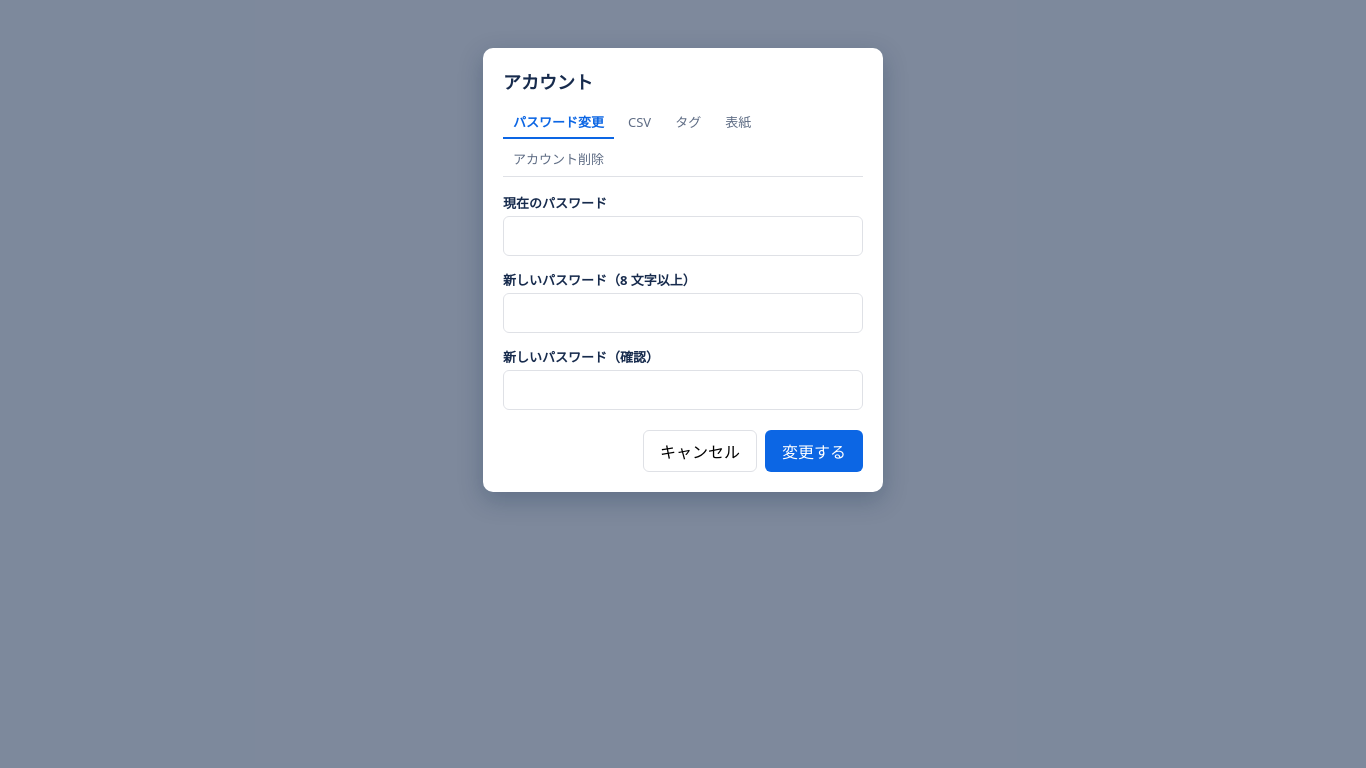
Test case: AccountModal（CSV） › 「CSV」で書き出しのリンク（/api/books/export）と読み込みを出し、取り込んだら imported を伝える
The image size is (1366, 768).
Click the tab "CSV" at [640, 122], box top-left (618, 106), bottom-right (661, 139)
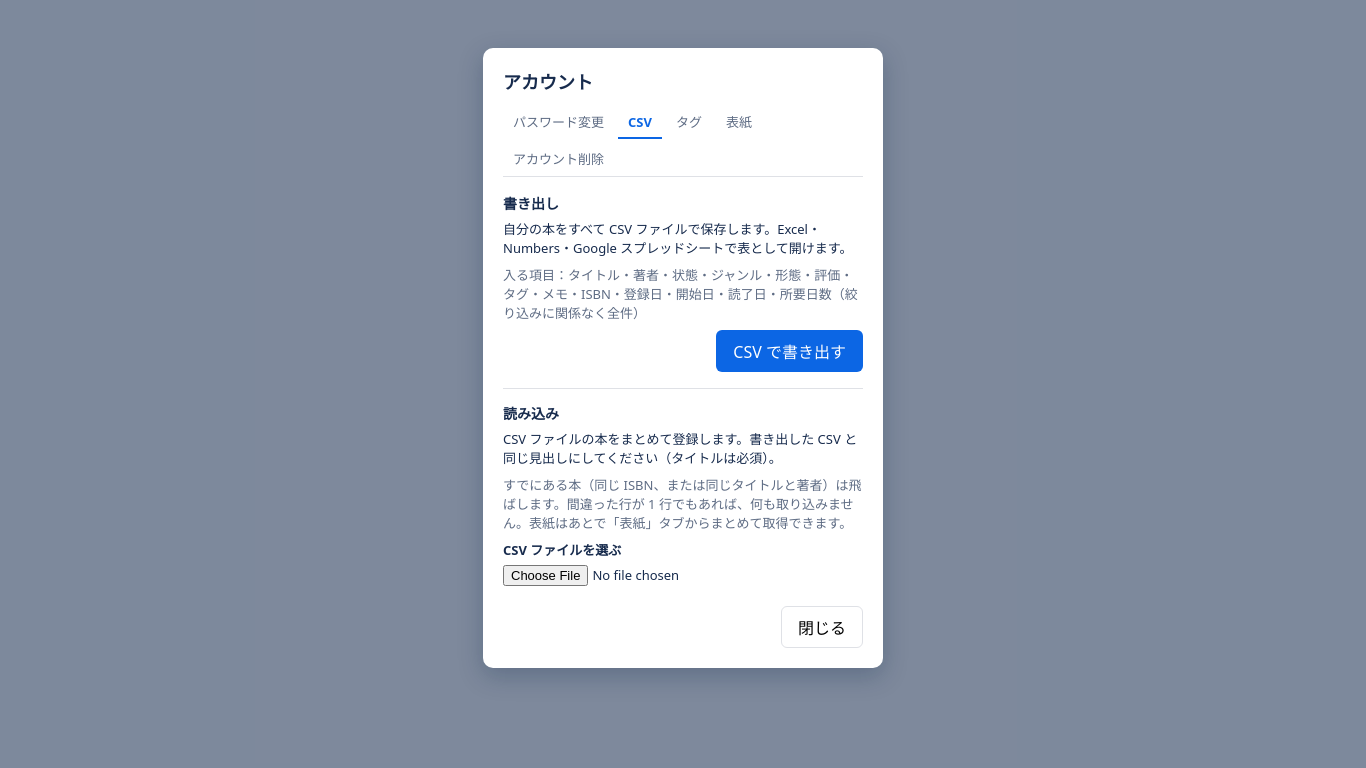
Result: the link with class "export-link" reads "CSV で書き出す" at top-left (716, 330), bottom-right (863, 372)
Result: the file field labelled "CSV ファイルを選ぶ" is shown at top-left (503, 565), bottom-right (863, 586)
